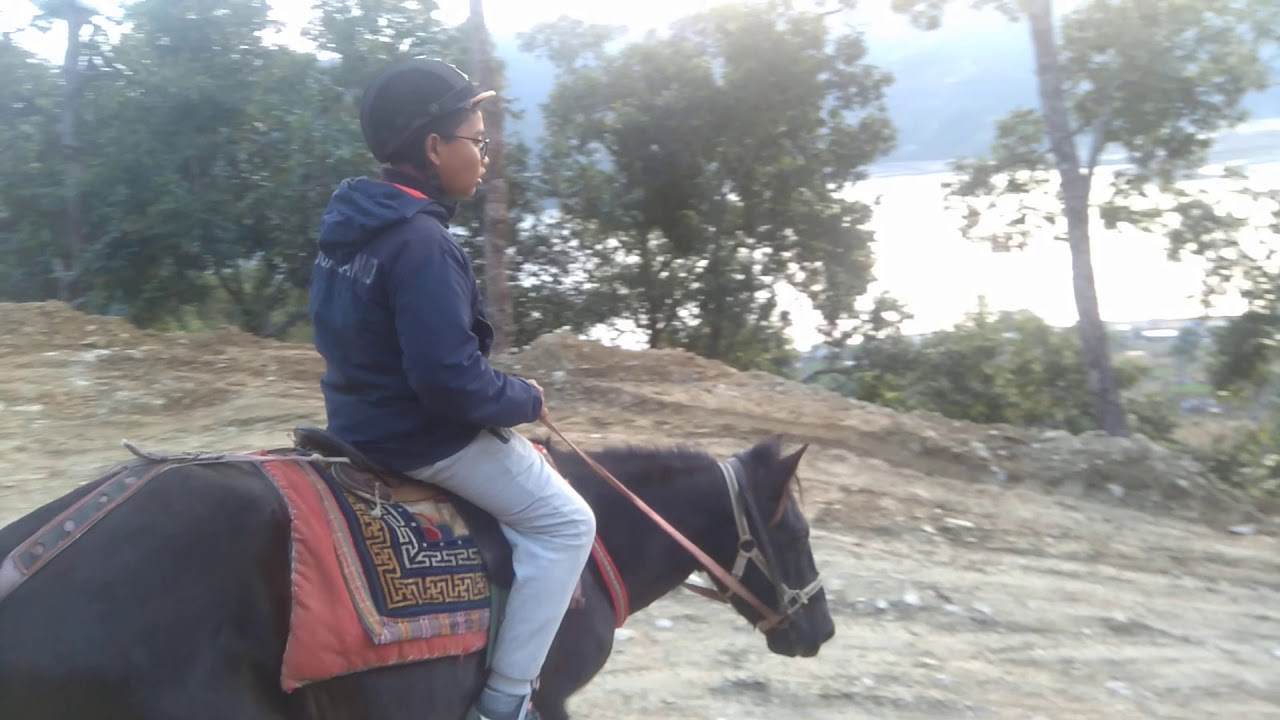equine: (1, 431, 837, 720)
human: (301, 49, 628, 720)
